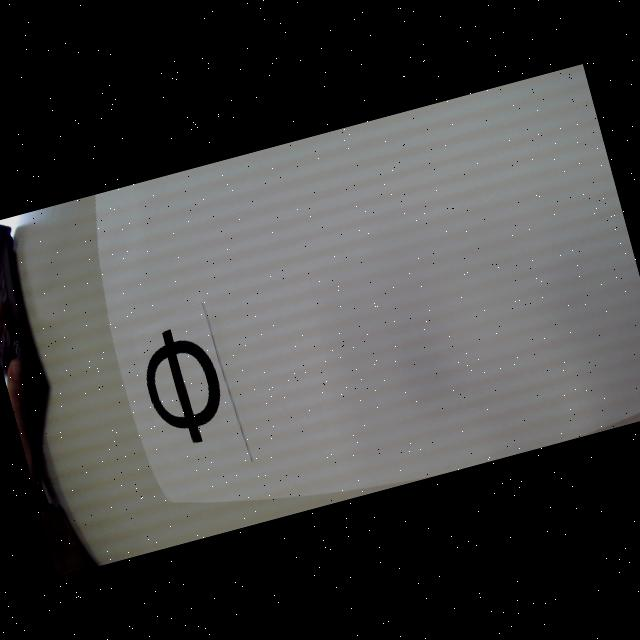PHI: (134, 319, 234, 452)
